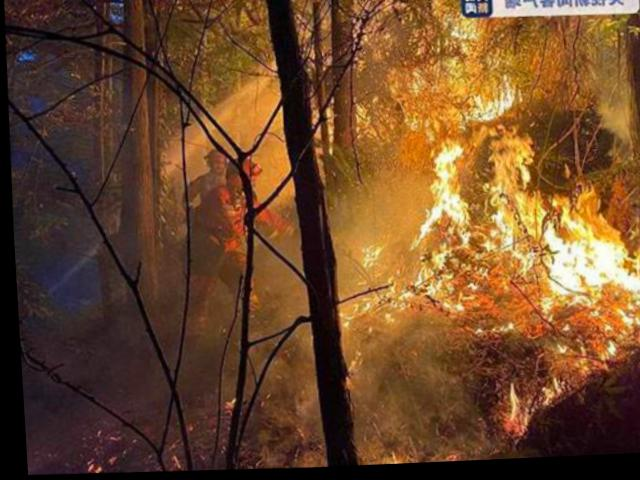fire: (329, 53, 639, 452)
